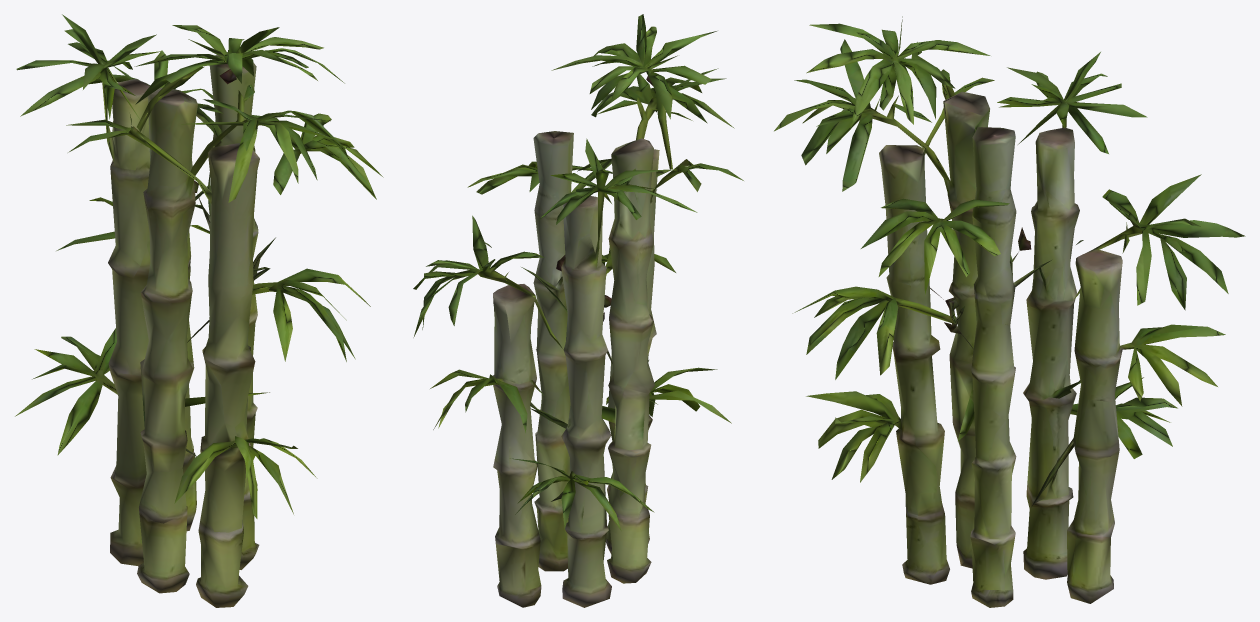
File: bamboo.glb
3 renders of one model, left to right at view 1: azimuth 30°, elevation 25°; view 2: azimuth 150°, elevation 25°; view 3: azimuth 270°, elevation 25°, orthographic. The views are drawn at different scales.
Parts seen in each view (by area): view 1: tripo_node_6bd5dd02-5daf-41c1-988d-2973d7e085e3; view 2: tripo_node_6bd5dd02-5daf-41c1-988d-2973d7e085e3; view 3: tripo_node_6bd5dd02-5daf-41c1-988d-2973d7e085e3.
Boxes of the visible parts, box(x1,y1,x2,y2) form: tripo_node_6bd5dd02-5daf-41c1-988d-2973d7e085e3: box(15, 14, 383, 607); tripo_node_6bd5dd02-5daf-41c1-988d-2973d7e085e3: box(413, 14, 743, 607); tripo_node_6bd5dd02-5daf-41c1-988d-2973d7e085e3: box(774, 16, 1245, 607).
Size of the model in its own units: 0.6456 by 1.19 by 0.9193.
1 material, 1 textured.
